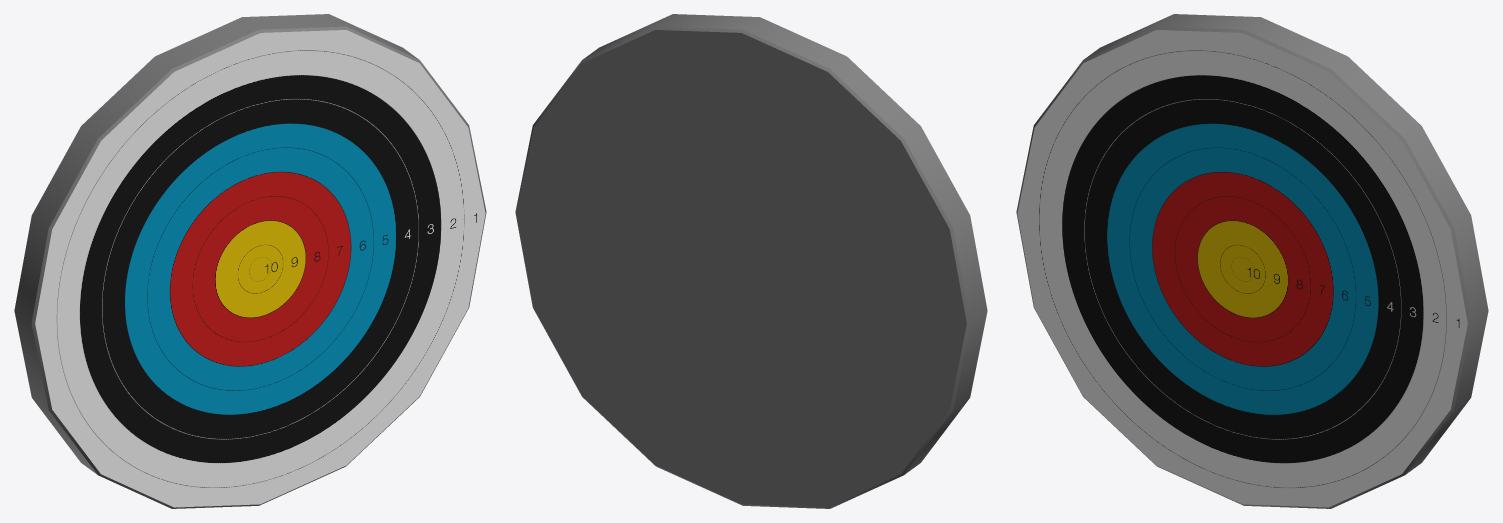
The model's file is target2.obj.
The picture shows the model from 3 angles, left to right: view 1: azimuth 30°, elevation 25°; view 2: azimuth 150°, elevation 25°; view 3: azimuth 330°, elevation 25°; orthographic projection.
Visible parts, largest first — view 1: MESH_ARCHERY_Target_Mesh, MESH_ARCHERY_Target.001_Mesh.002; view 2: MESH_ARCHERY_Target.001_Mesh.002; view 3: MESH_ARCHERY_Target_Mesh, MESH_ARCHERY_Target.001_Mesh.002.
Part boxes in pixels (left/top/right/bottom): MESH_ARCHERY_Target_Mesh: left=35, top=30, right=485, bottom=507; MESH_ARCHERY_Target.001_Mesh.002: left=14, top=14, right=486, bottom=508; MESH_ARCHERY_Target.001_Mesh.002: left=515, top=14, right=987, bottom=508; MESH_ARCHERY_Target_Mesh: left=1017, top=30, right=1467, bottom=507; MESH_ARCHERY_Target.001_Mesh.002: left=1016, top=14, right=1488, bottom=508.
Size of the model in its own units: 0.6 by 0.6 by 0.045.
Materials: 2 (1 with a texture image).
